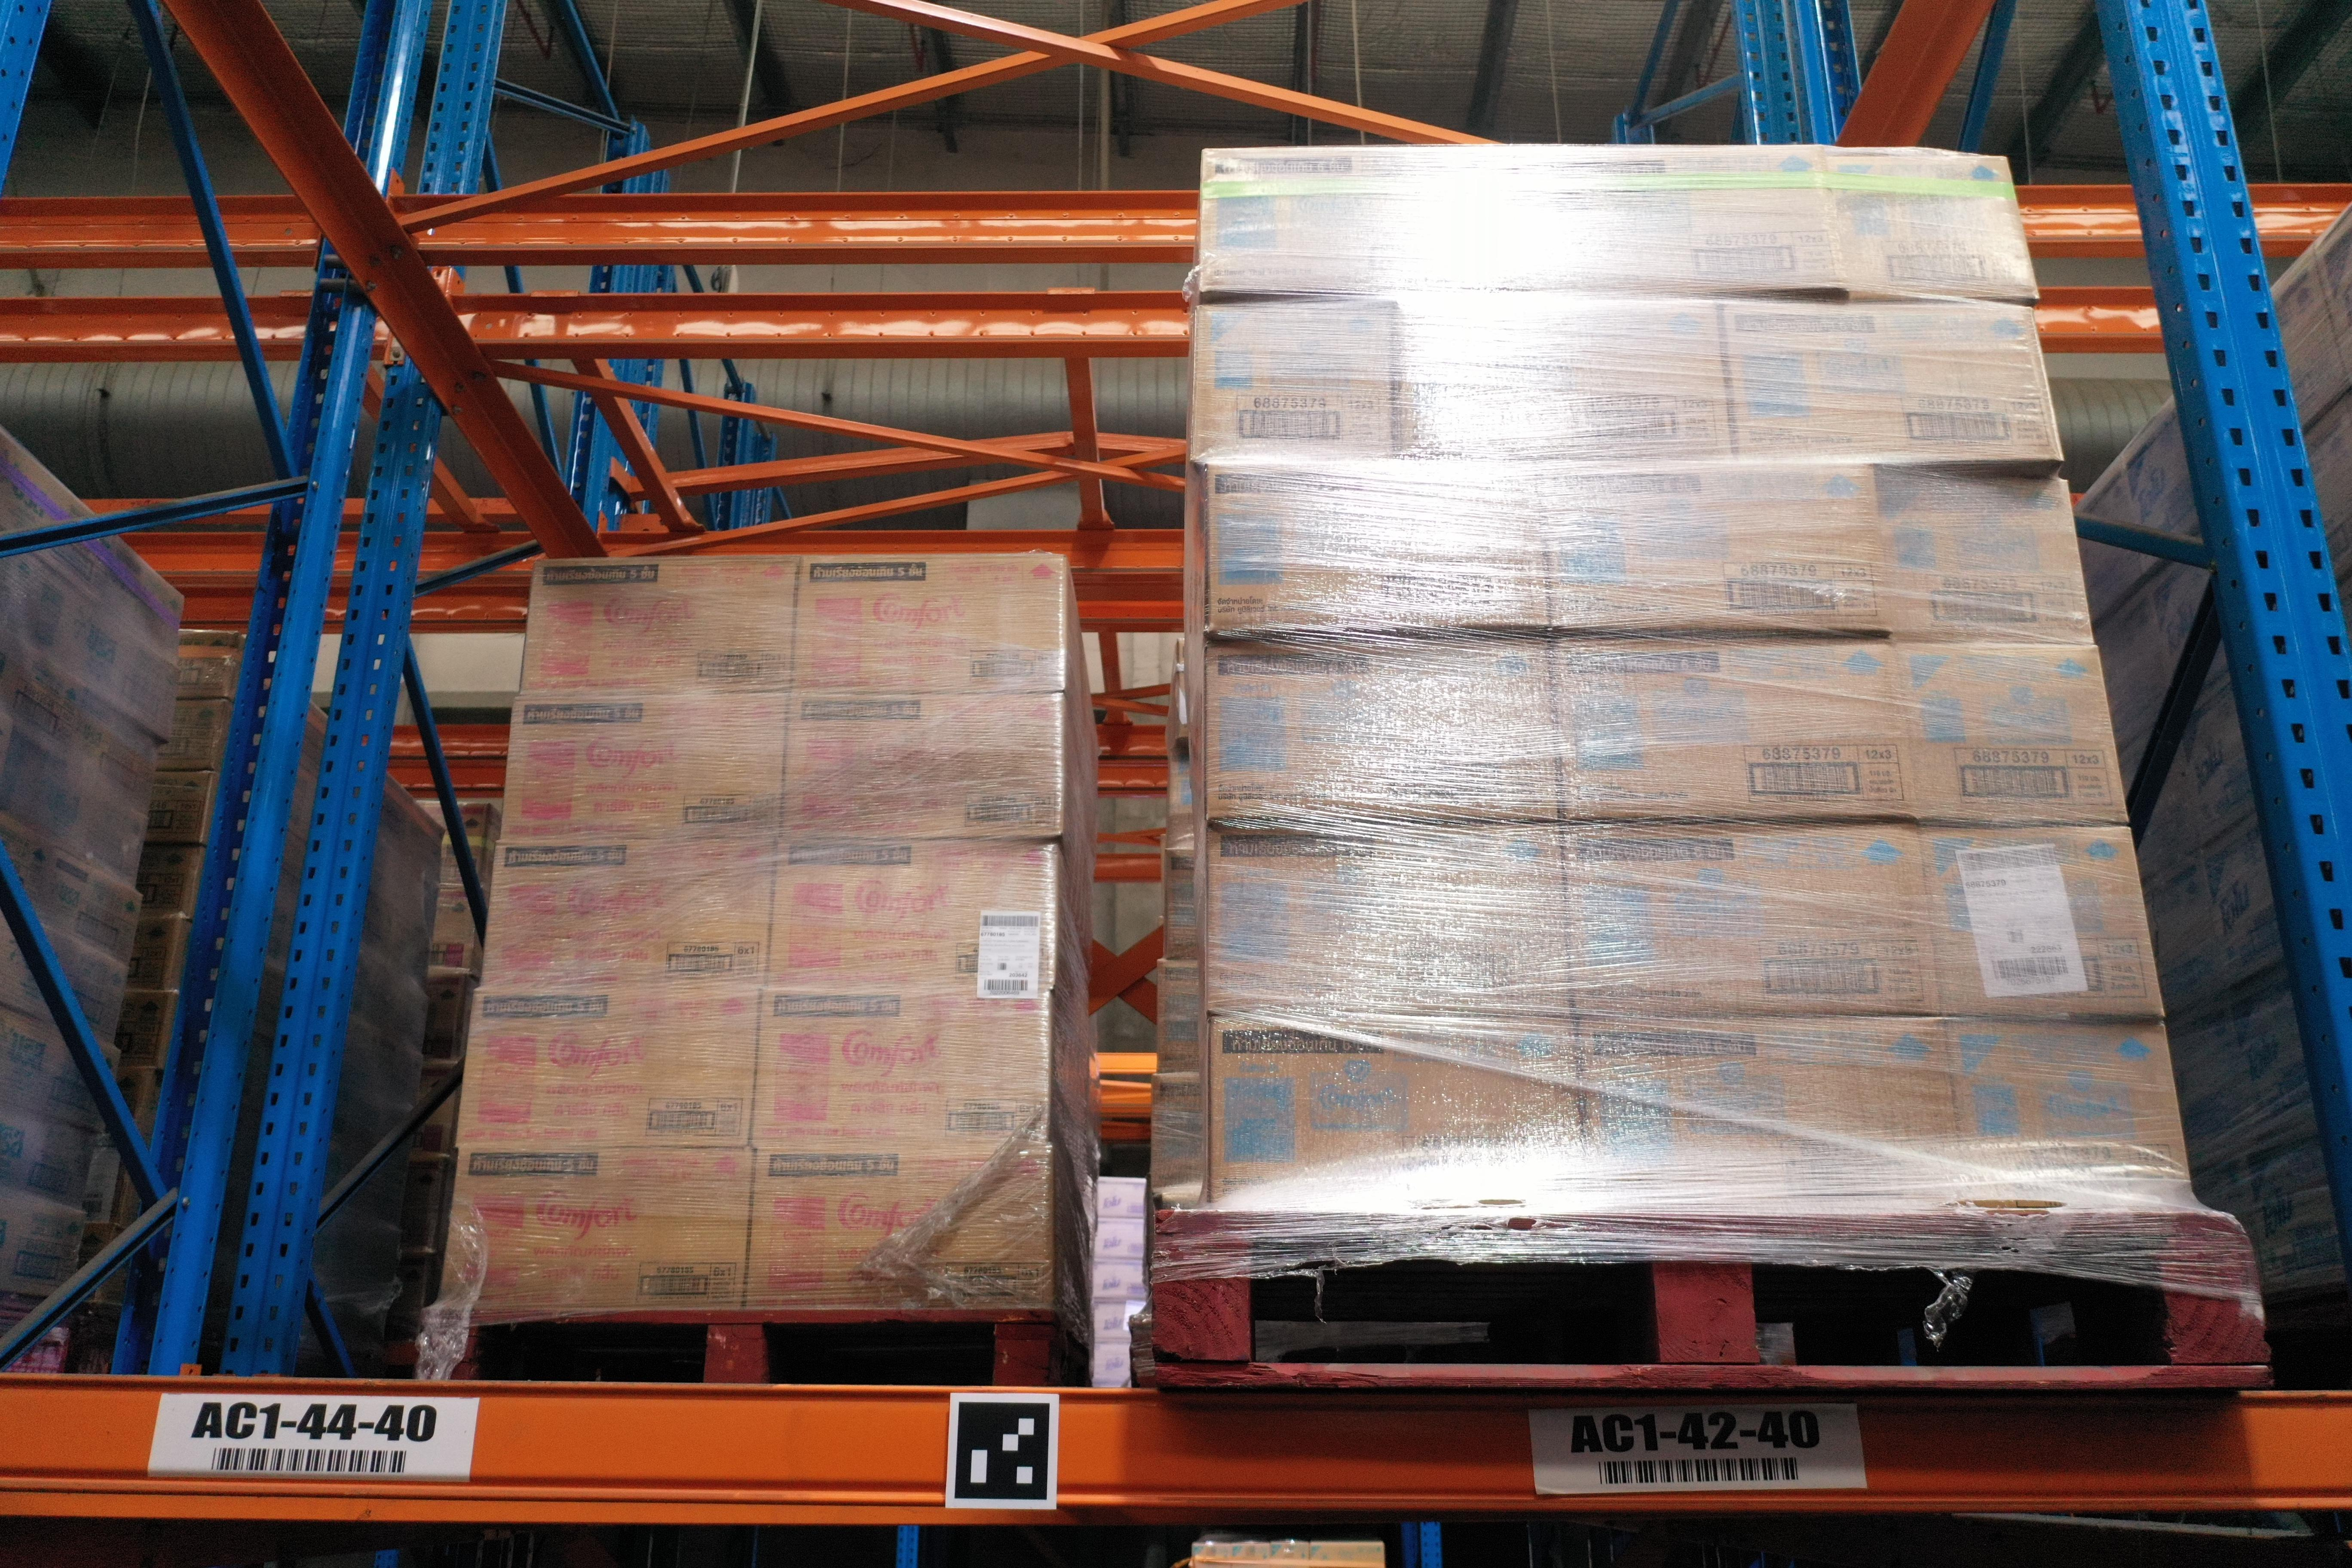-: (1577, 1015, 1972, 1209), (1563, 824, 1944, 1022), (1209, 1017, 1589, 1213), (1209, 821, 1577, 1018), (1550, 635, 1913, 824), (1204, 637, 1563, 822), (1206, 464, 1550, 647), (1543, 464, 1890, 635), (1720, 294, 2063, 465), (1389, 294, 1734, 460), (1199, 143, 1549, 299), (1949, 1015, 2200, 1213), (1918, 821, 2163, 1022), (1540, 143, 1851, 294), (1893, 640, 2128, 826), (1871, 467, 2096, 644), (1190, 297, 1395, 465), (1827, 145, 2042, 304)
box: (441, 1148, 758, 1316), (453, 989, 765, 1151), (747, 1146, 1052, 1312), (752, 983, 1048, 1150), (479, 838, 779, 996), (763, 838, 1057, 990), (497, 693, 789, 845), (777, 693, 1067, 840), (791, 549, 1067, 695), (518, 556, 798, 696)
